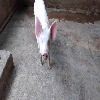heo: (32, 14, 59, 62)
